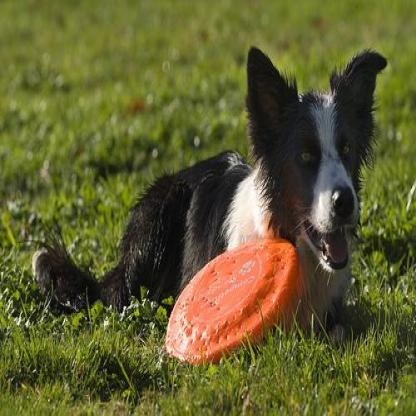Border_collie: (31, 44, 385, 330)
